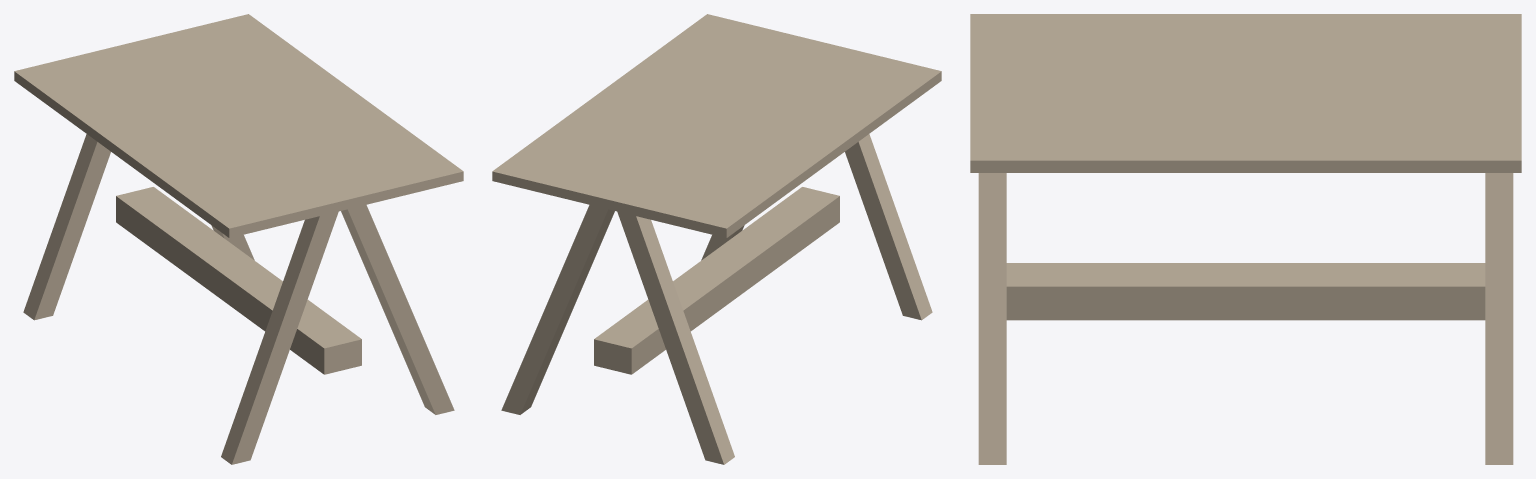
The model's file is 3dcodebench_SimpleDesk_seed0_L4_Q0__gemini31pro.glb.
3 renders of one model, left to right at view 1: azimuth 30°, elevation 25°; view 2: azimuth 150°, elevation 25°; view 3: azimuth 270°, elevation 25°, orthographic. The views are drawn at different scales.
Visible parts, largest first — view 1: object; view 2: object; view 3: object.
Boxes of the visible parts, <box> form: object: <box>14,14,463,464</box>; object: <box>492,14,941,464</box>; object: <box>970,14,1521,464</box>.
Size of the model in its own units: 0.7452 by 0.7293 by 1.18.
